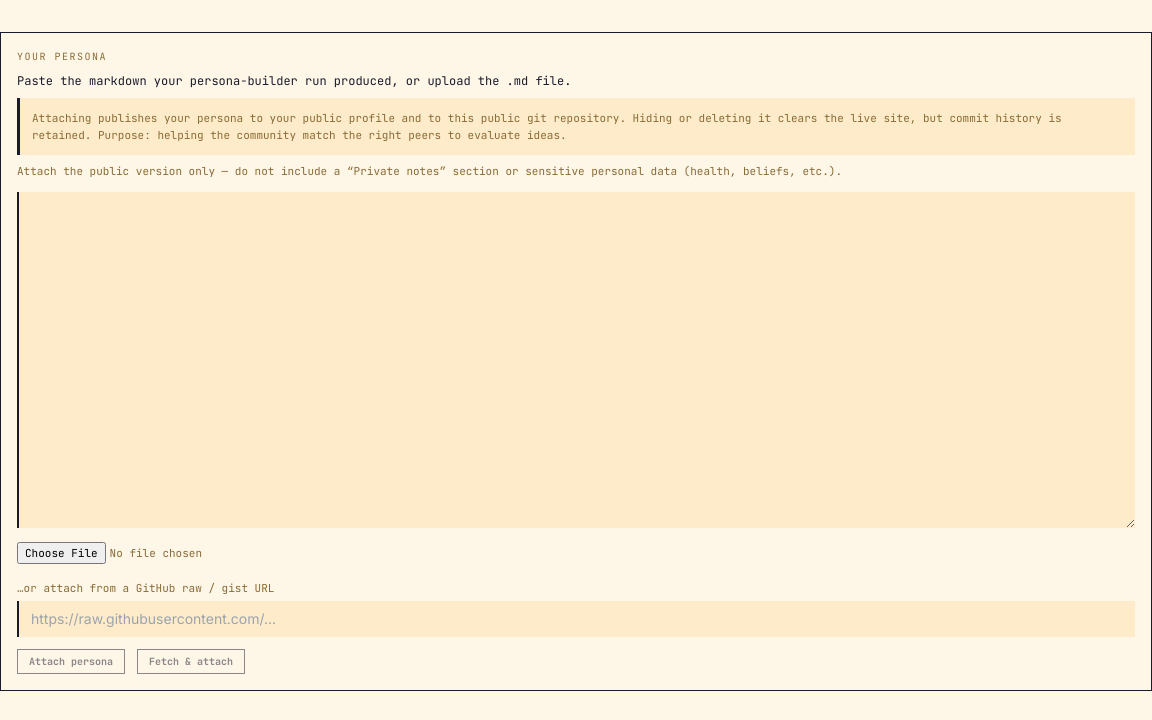
it: PersonaEditor — URL attach (v0.12) › posts source_url (and no content) to savePersona, then shows the i18n attached message
Type "https://raw.githubusercontent.com/jane/p/main/persona-jane-d.public.md" into the field labelled "…or attach from a GitHub raw / gist URL".
click(576, 618); type("https://raw.githubusercontent.com/jane/p/main/persona-jane-d.public.md")  # box [17,600,1135,636]
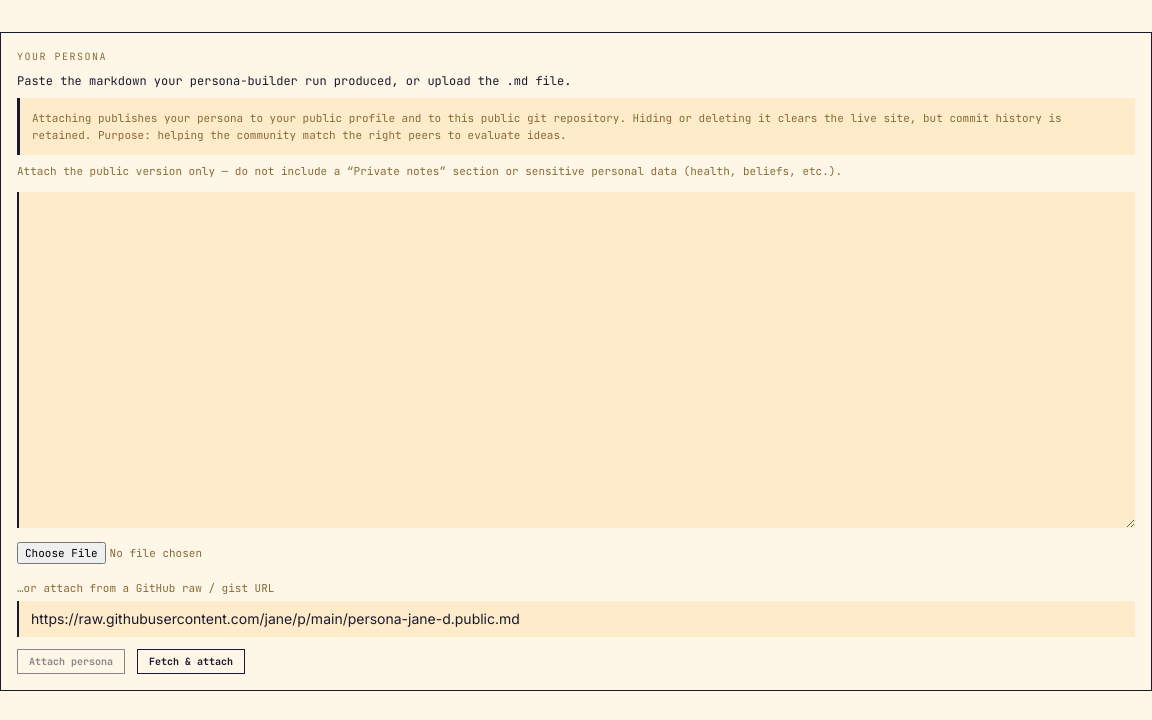
Click the button "Fetch & attach".
click(191, 661)  # box [137,648,245,674]
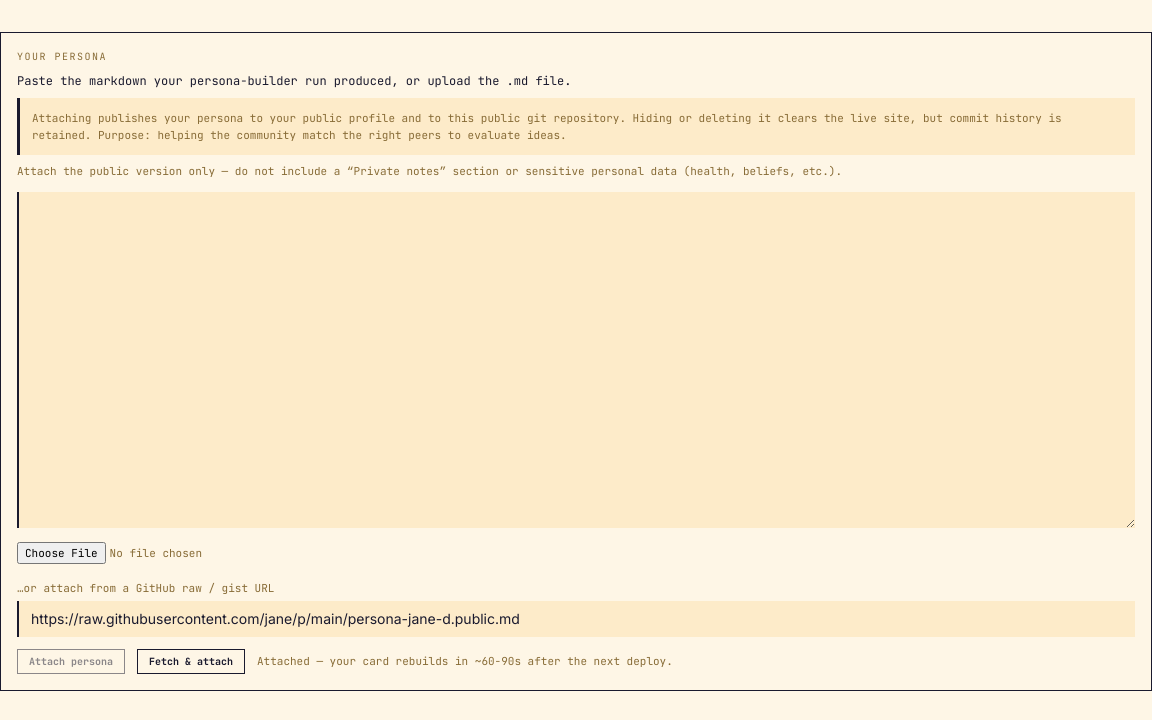
Expected: the text "Attached — your card rebuilds in ~60-90s after the next deploy." is shown, [257,653,673,669]
